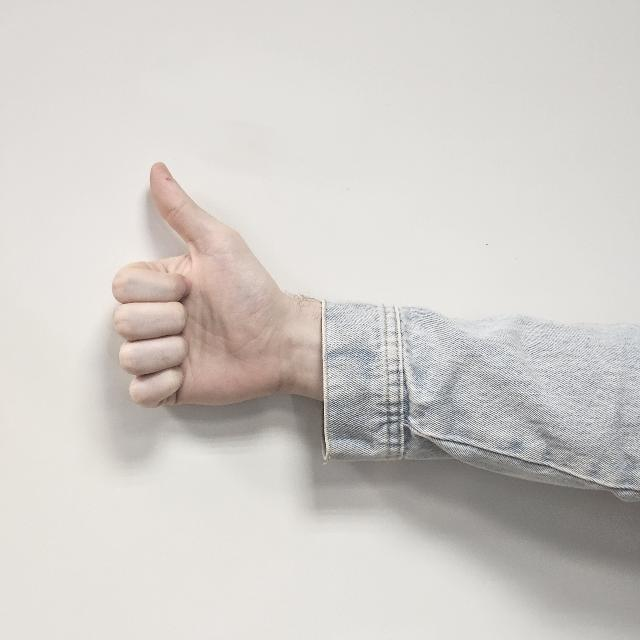Start: (104, 157, 292, 450)
